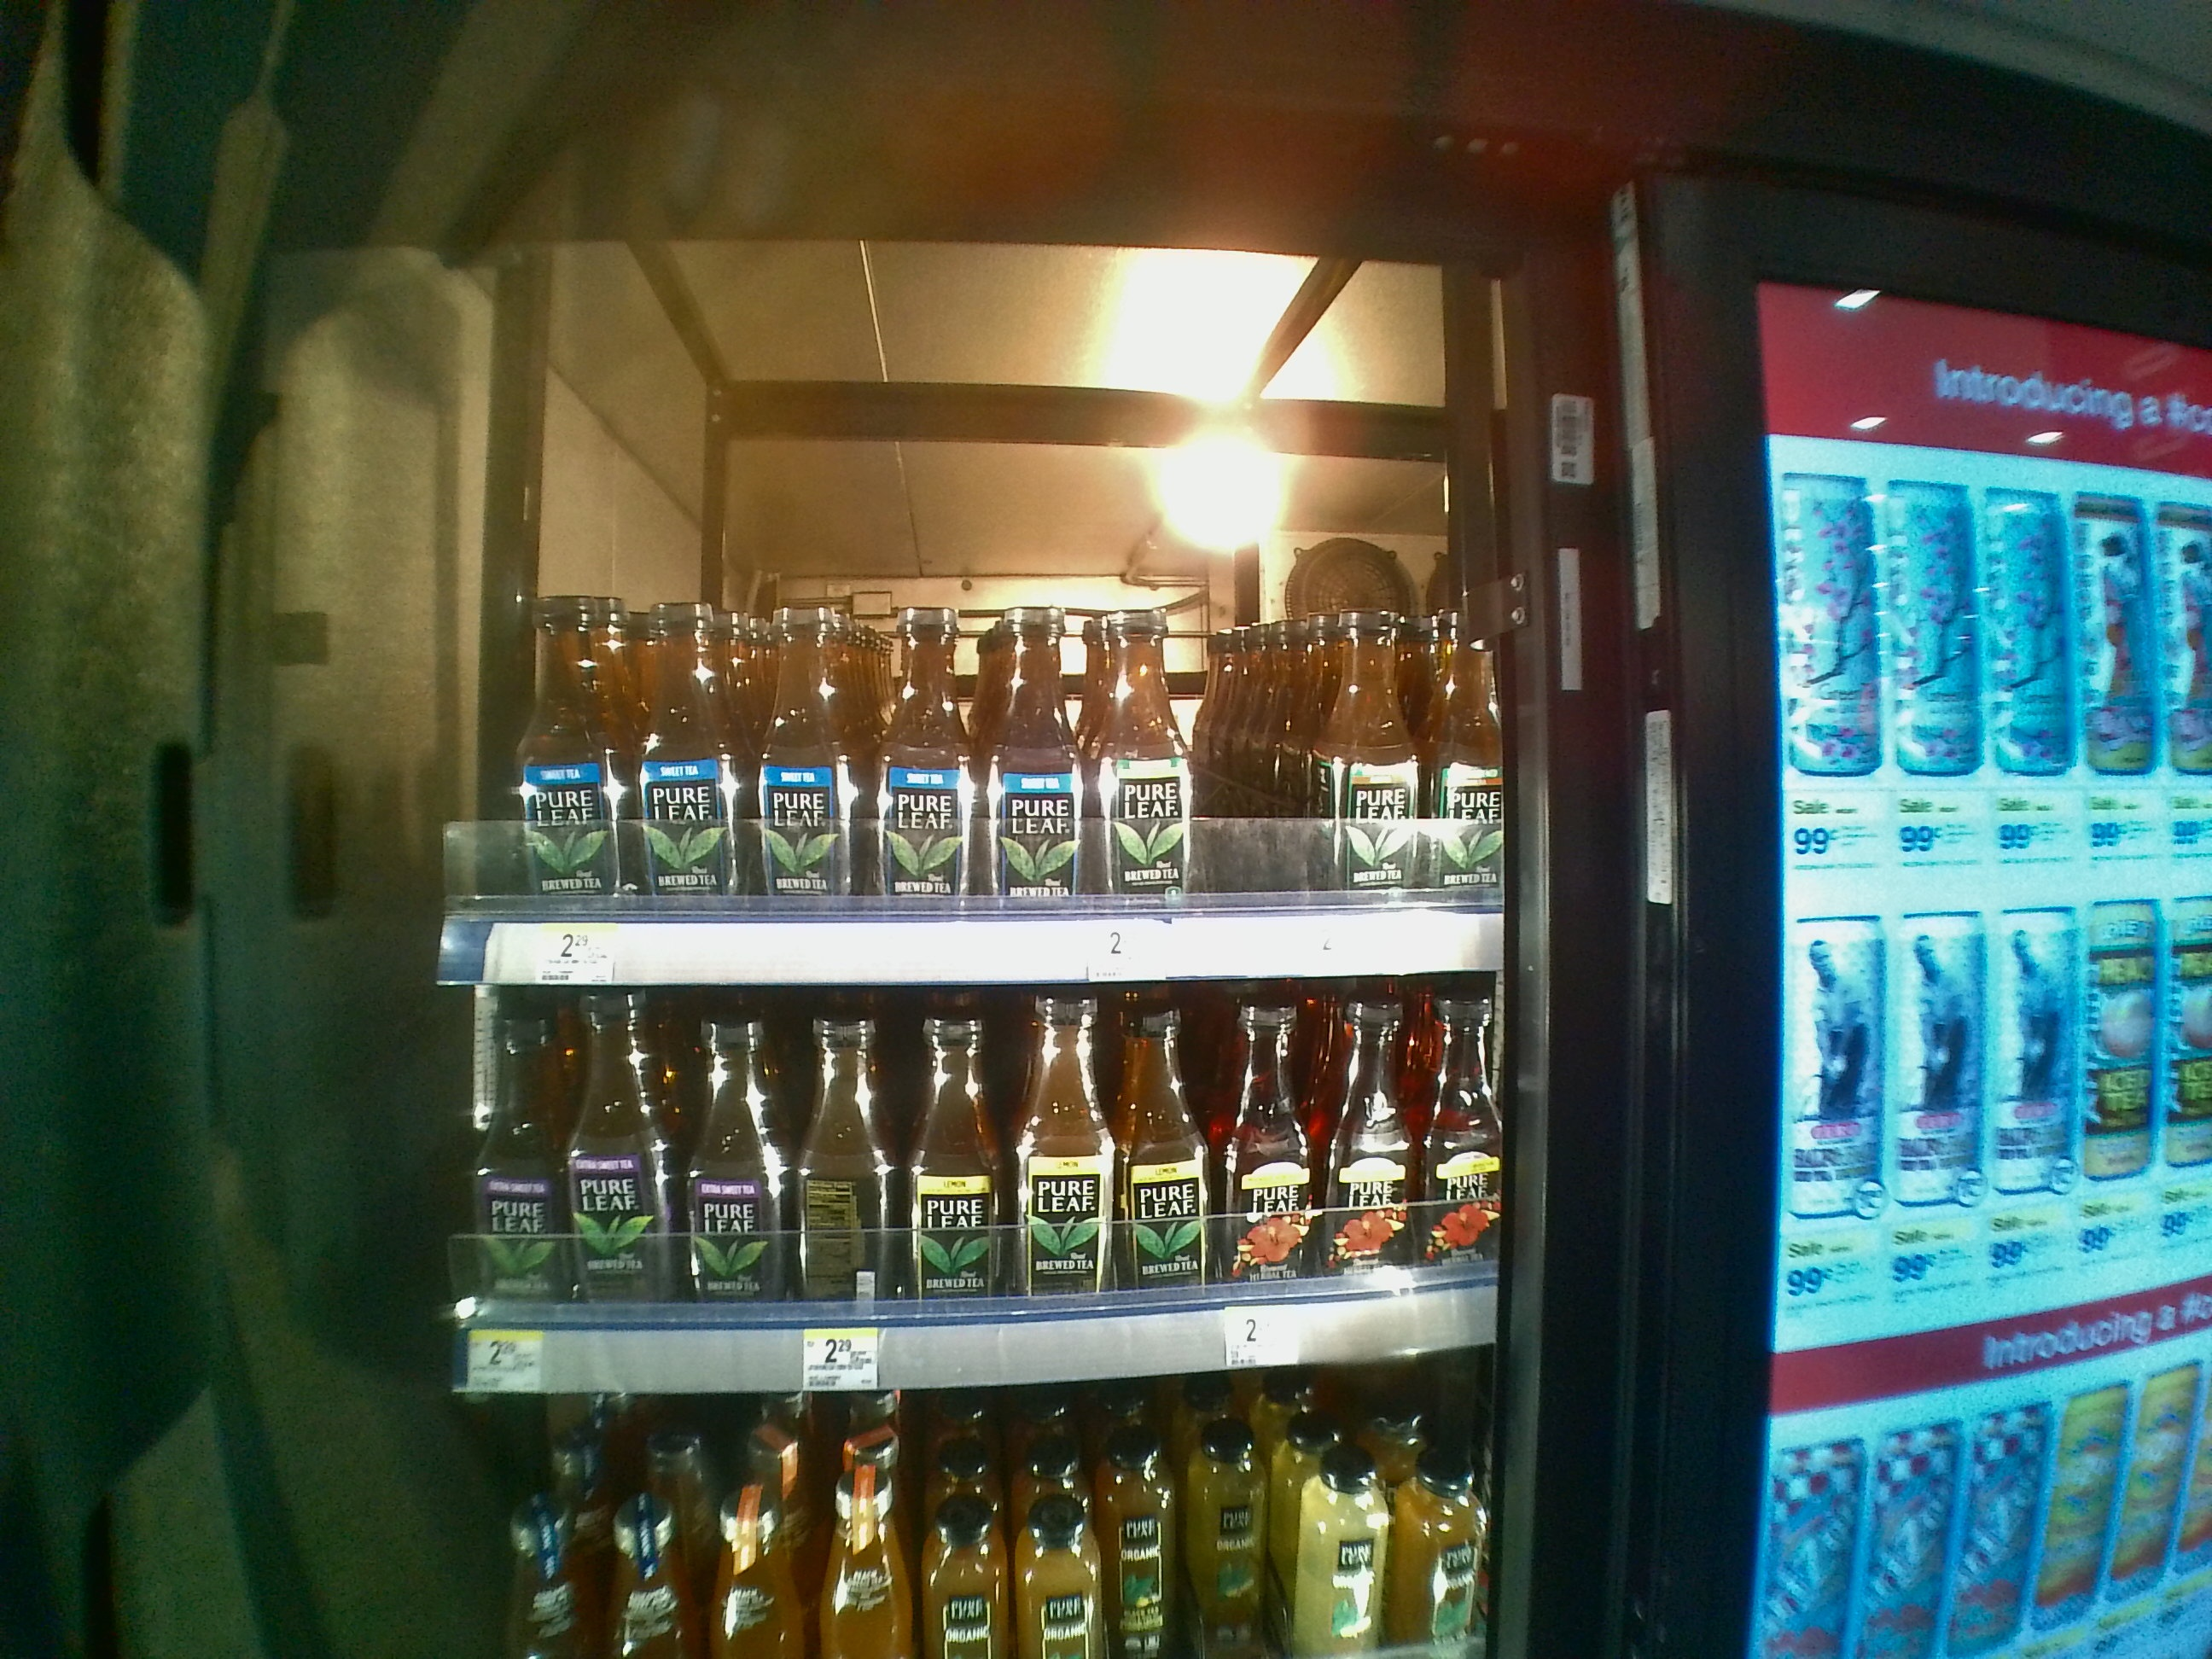shelf: (432, 420, 1501, 983), (439, 990, 1503, 1394)
